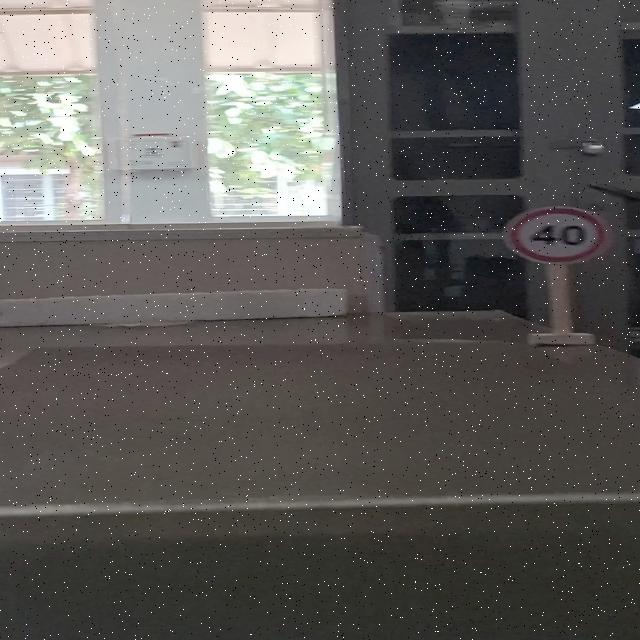Speed40: (497, 197, 622, 269)
